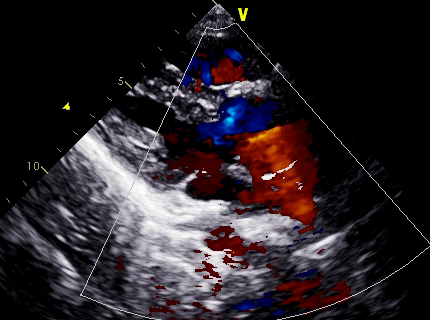AR: (206, 128, 316, 179)
